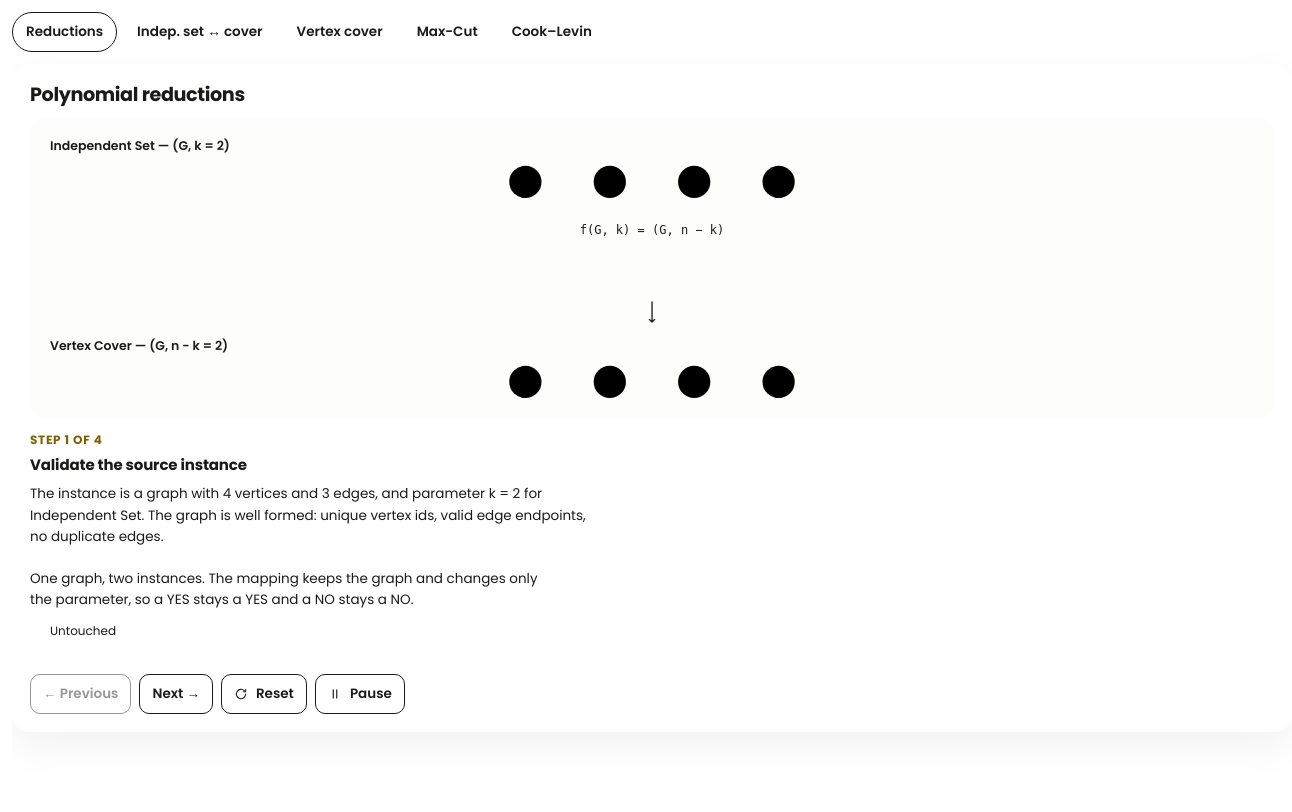
Test: AlgoScene › shows the solver's own step text, so the animation and the maths agree
The image size is (1292, 812).
Click the tab "Vertex cover" at point(340, 32), box x1=283 y1=12 x2=397 y2=52
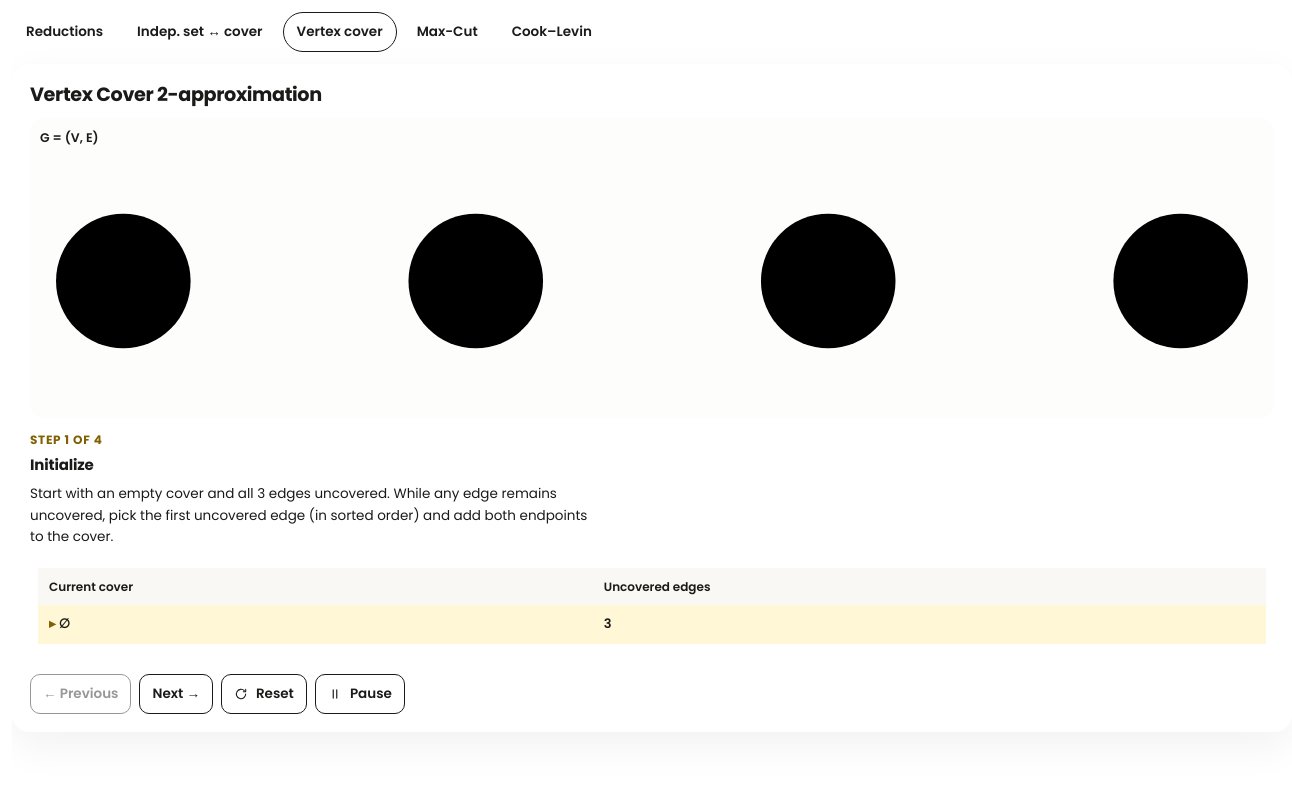
Result: the text "Start with an empty cover and all 3 edges uncovered" is shown at x1=30 y1=484 x2=587 y2=546
Click the button "Reset" at point(264, 694), box x1=221 y1=674 x2=307 y2=714
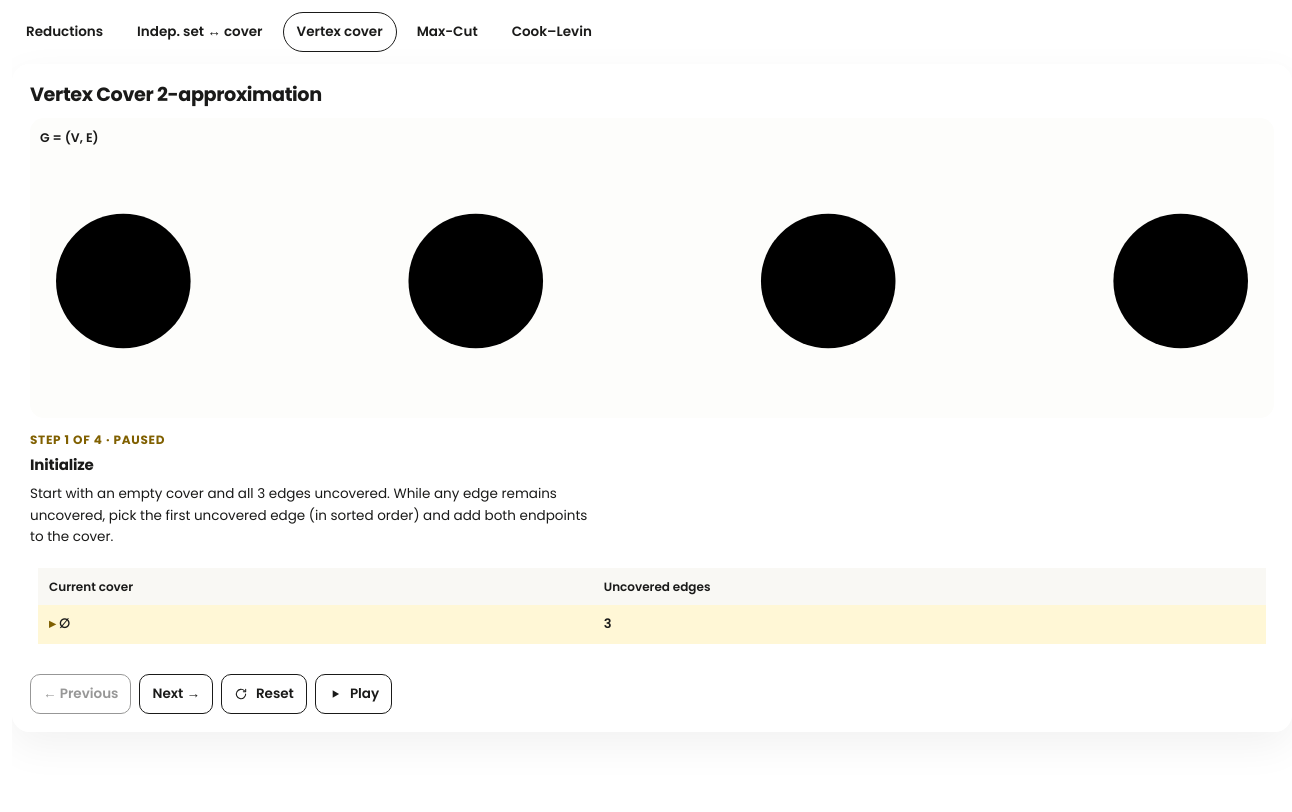
Click the button "Next →" at point(176, 694), box x1=140 y1=674 x2=213 y2=714
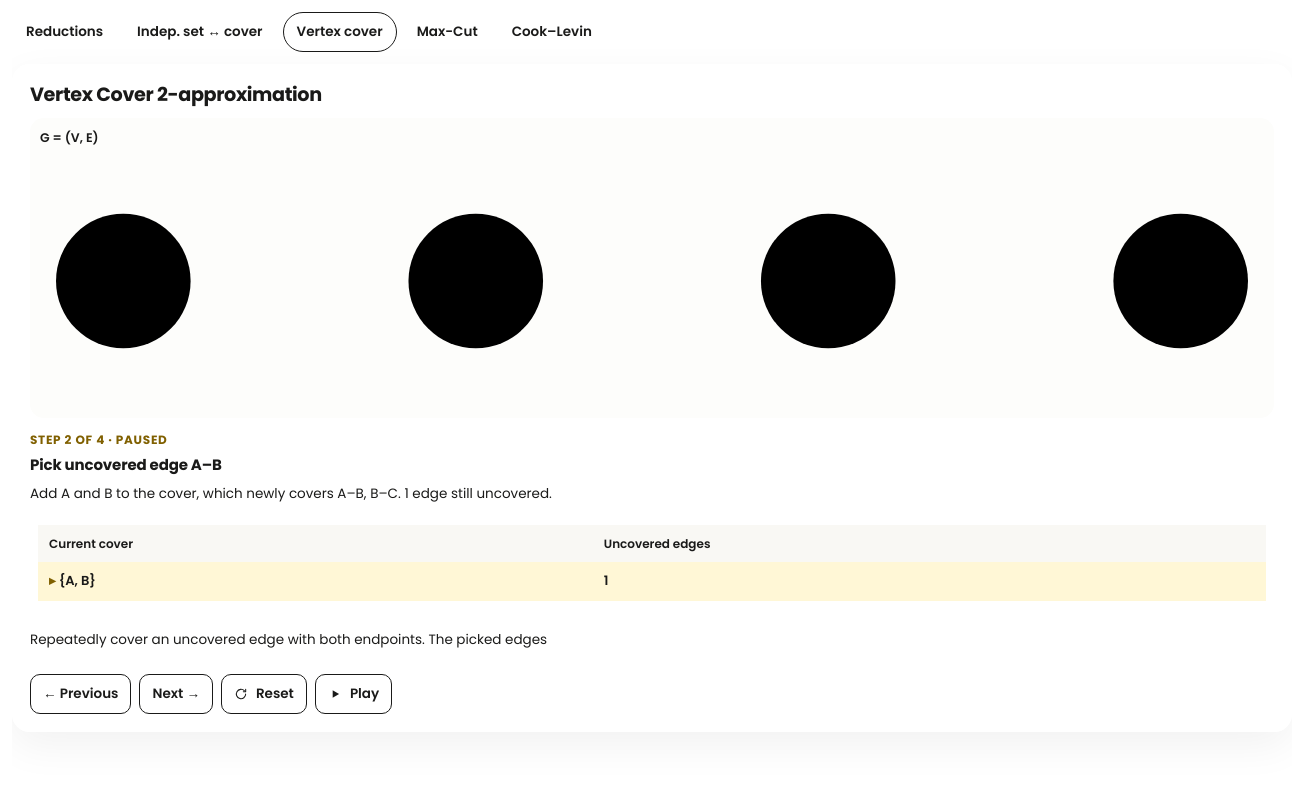
Result: the column heading "Uncovered edges" is shown at x1=593 y1=525 x2=1266 y2=562
Result: the number of rows with class "lp-row-current" is 1 at x1=38 y1=562 x2=1266 y2=601
Result: the heading "Pick uncovered edge A–B" is shown at x1=30 y1=454 x2=222 y2=475
